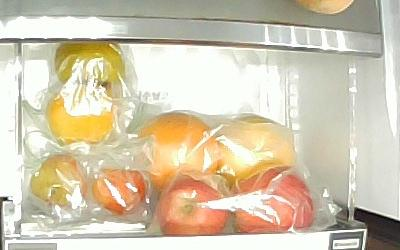apple_vinyl: (233, 167, 314, 233), (157, 179, 228, 235)
grapefruit_vinyl: (135, 113, 218, 192), (218, 116, 294, 189)
persimmon_vinyl: (47, 86, 114, 145), (54, 42, 127, 94)
prune_vinyl: (30, 156, 88, 209), (92, 167, 148, 214)
